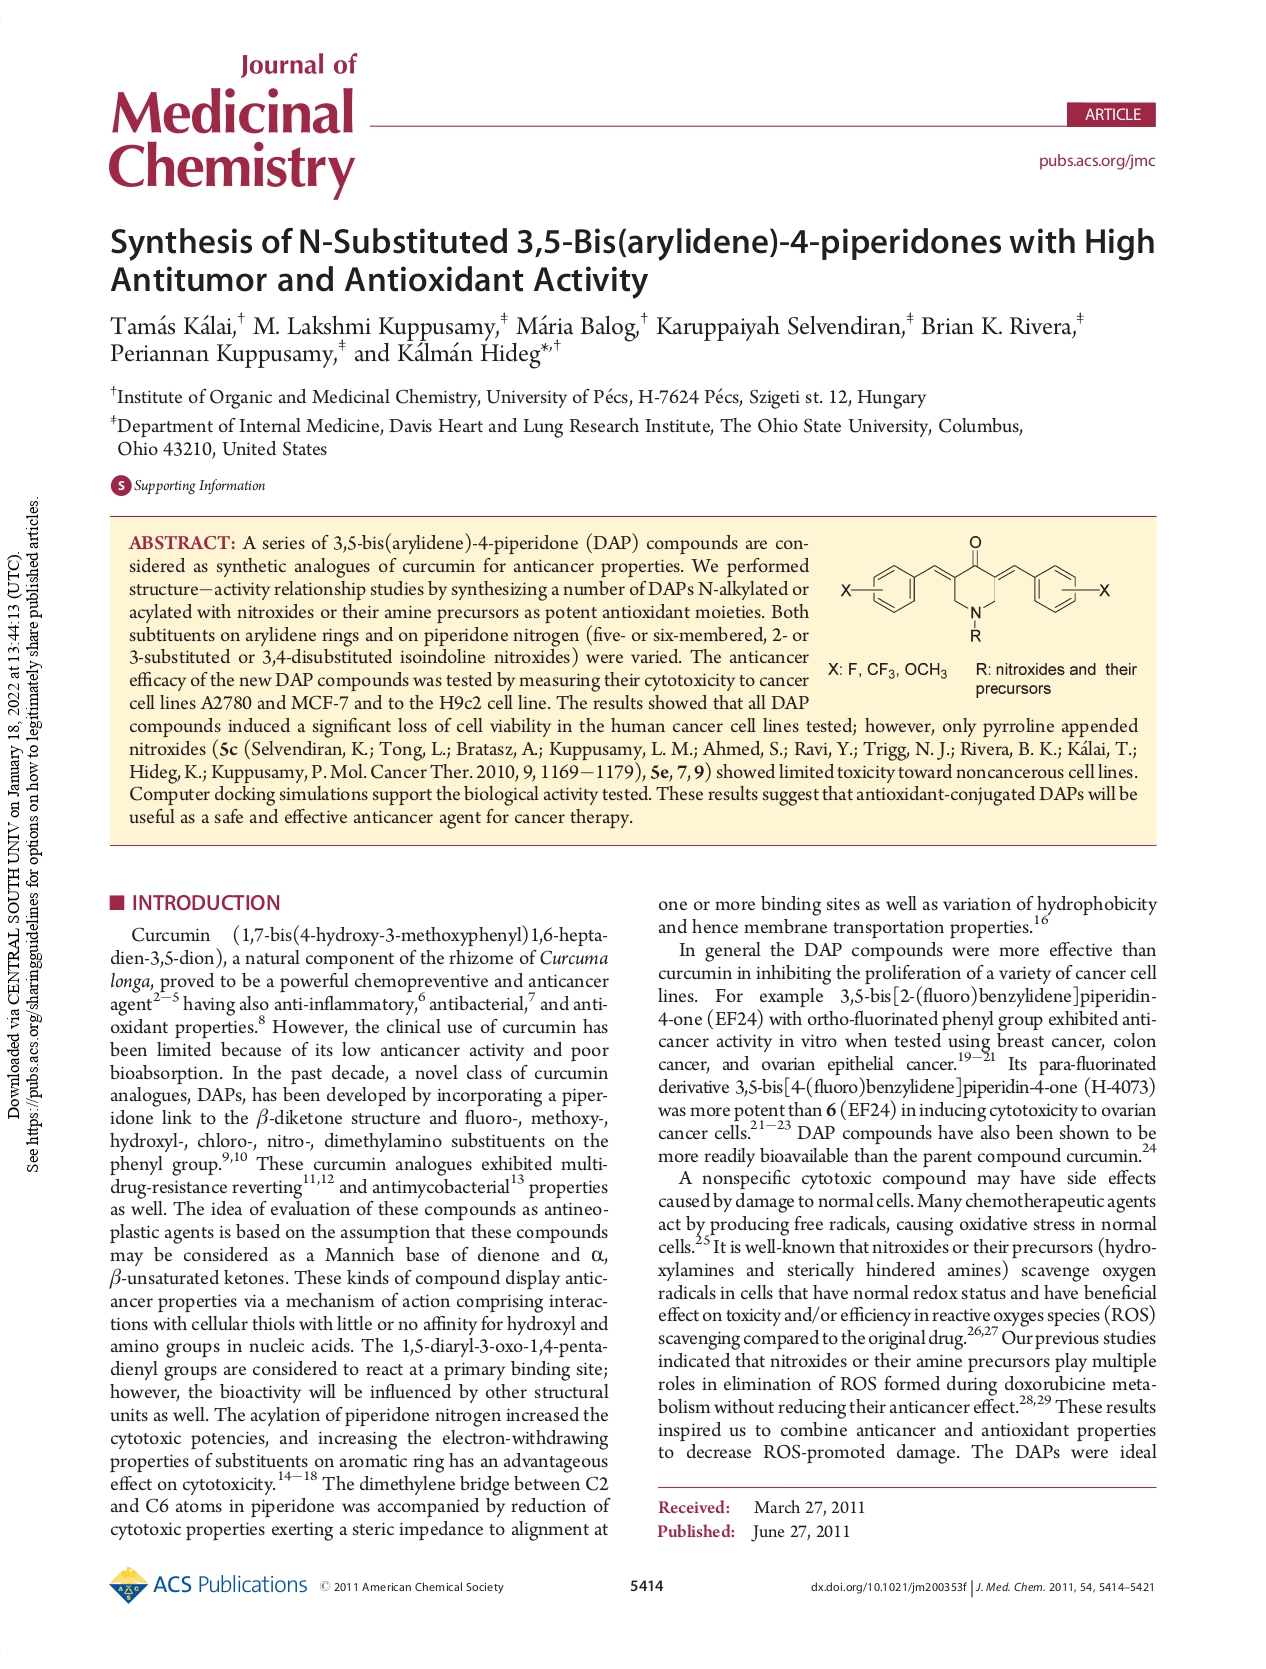exist_molecular: (839, 533, 1110, 646)
